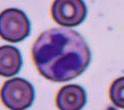N: (32, 26, 90, 82)
